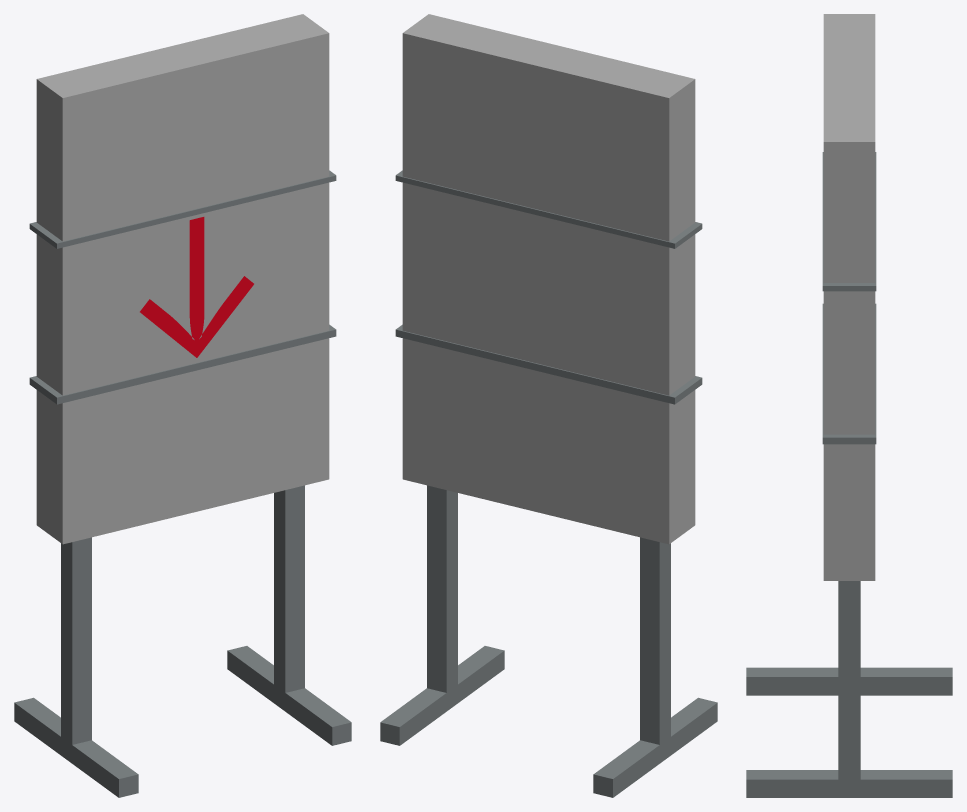
File: ObstacleTall.fbx
The picture shows the model from 3 angles, left to right: view 1: azimuth 30°, elevation 25°; view 2: azimuth 150°, elevation 25°; view 3: azimuth 270°, elevation 25°; orthographic projection.
Visible parts, largest first — view 1: Cube, Text; view 2: Cube; view 3: Cube.
Part boxes in pixels (x1,y1,x2,y2): Cube: (14,14,351,797); Text: (140,217,253,357); Cube: (380,14,717,797); Cube: (746,14,952,797).
Size of the model in its own units: 210 by 484 by 136.
